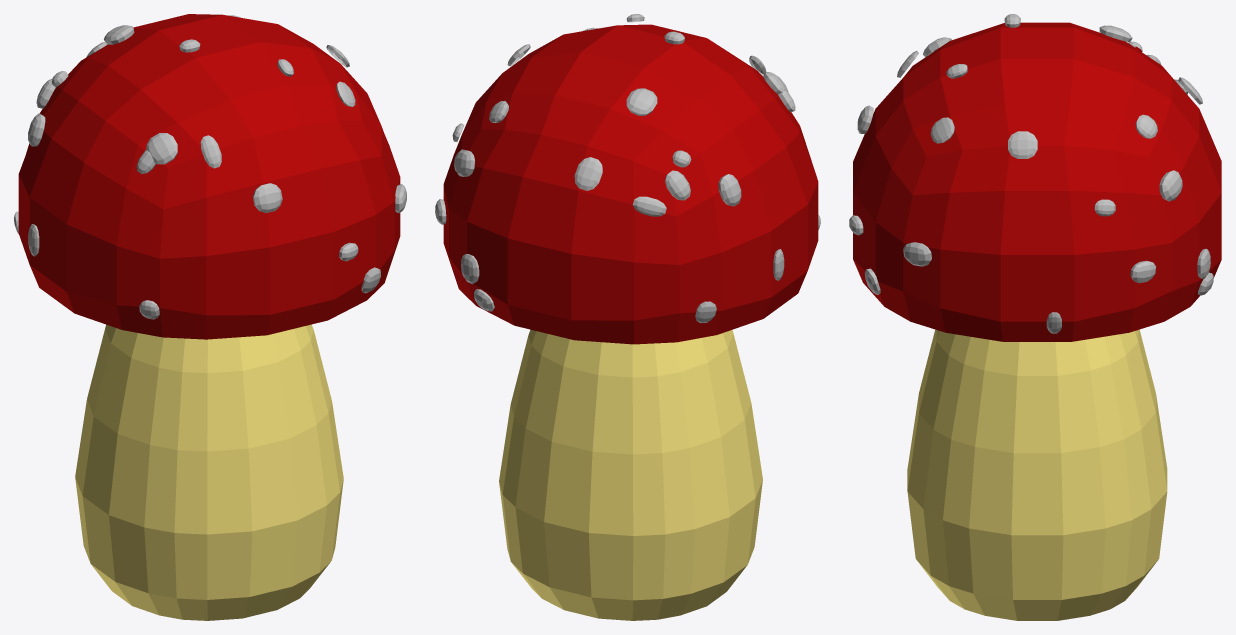
The model's file is moshroom.FBX.
3 views of the same model, side by side, from view 1: azimuth 30°, elevation 25°; view 2: azimuth 150°, elevation 25°; view 3: azimuth 270°, elevation 25° (orthographic).
Visible parts, largest first — view 1: Box001; view 2: Box001; view 3: Box001.
Boxes of the visible parts, box(x1,y1,x2,y2) form: Box001: box(14, 14, 406, 620); Box001: box(435, 14, 820, 620); Box001: box(849, 14, 1221, 620).
Size of the model in its own units: 345 by 565 by 338.
1 material, 1 textured.
